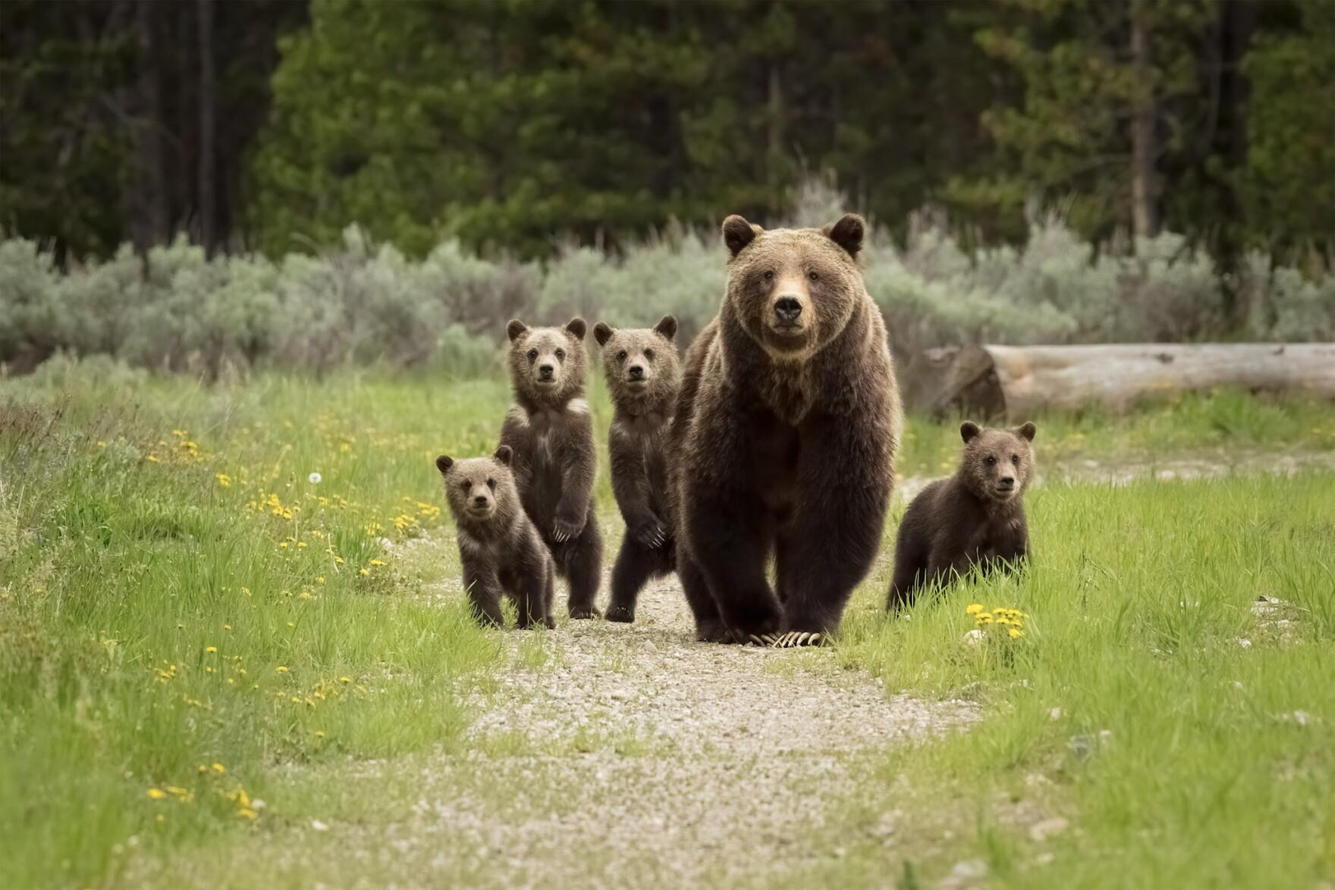ball: (595, 214, 900, 646), (438, 318, 602, 625), (891, 422, 1033, 606)
